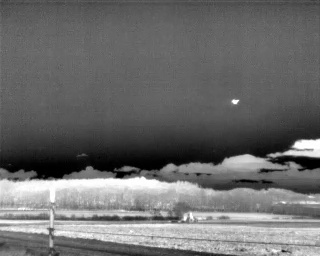DRONE: (228, 96, 242, 108)
